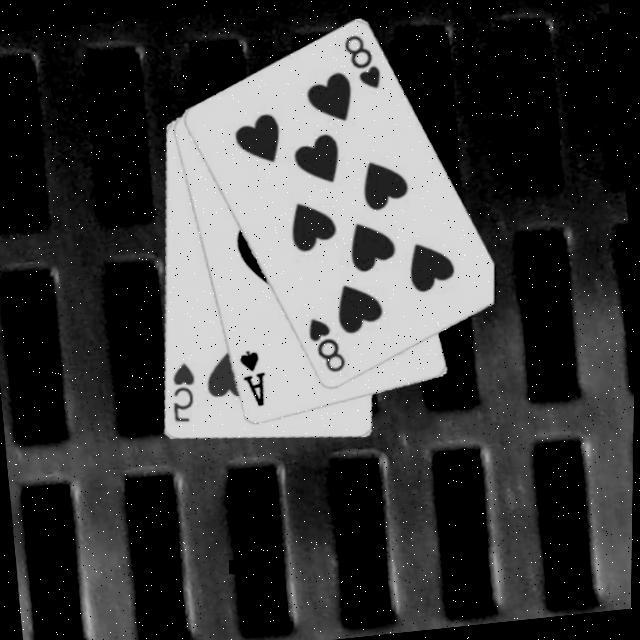5H: (163, 357, 201, 425)
8H: (302, 310, 350, 376), (338, 27, 384, 93)
AS: (233, 344, 271, 411)
